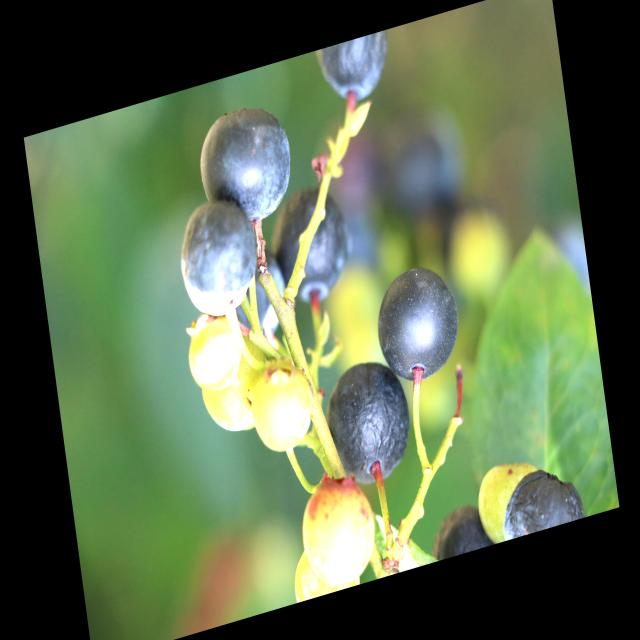blueberry: (184, 91, 301, 231), (319, 349, 419, 502), (366, 252, 467, 397), (169, 186, 267, 328), (270, 169, 361, 310), (489, 454, 588, 543), (422, 491, 496, 562)
blueberry-unripe: (298, 470, 383, 589), (197, 342, 273, 446), (472, 451, 544, 541), (249, 362, 316, 458), (180, 307, 247, 398), (291, 546, 366, 603)
